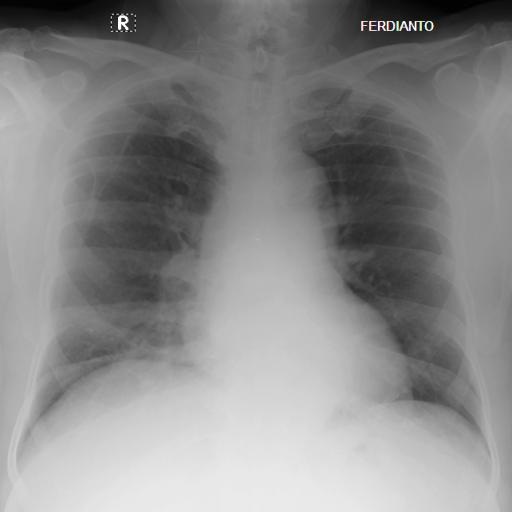kardiomegali: (15, 40, 495, 466)
